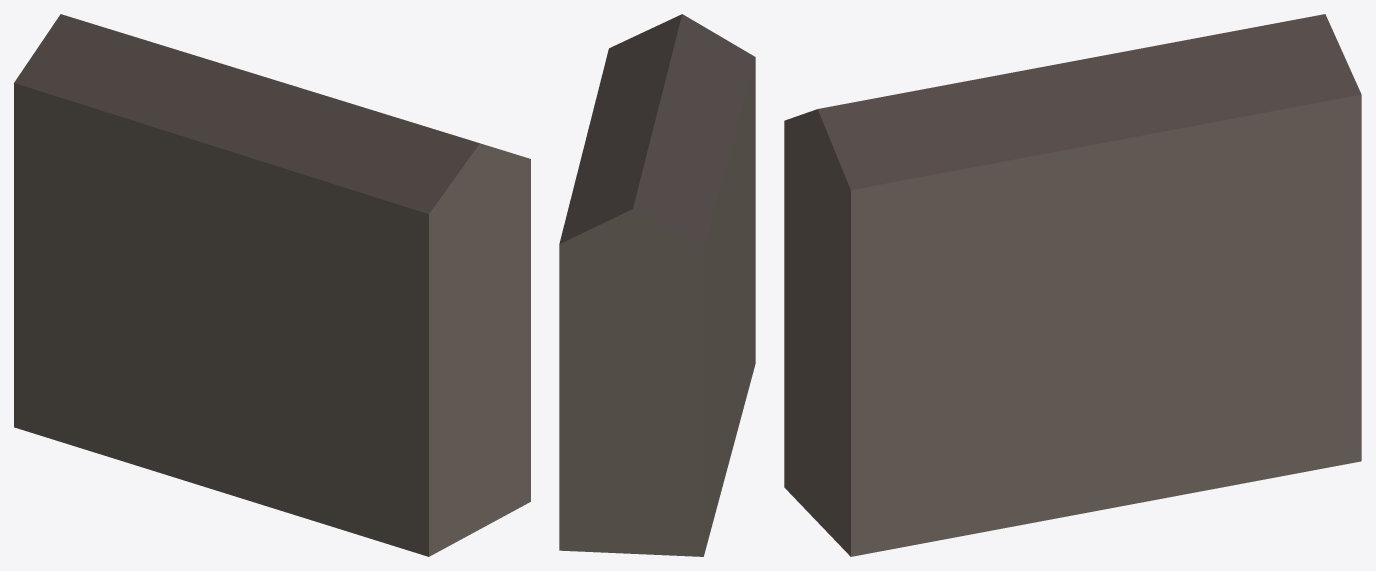
3 renders of one model, left to right at view 1: azimuth 30°, elevation 25°; view 2: azimuth 150°, elevation 25°; view 3: azimuth 270°, elevation 25°, orthographic. The views are drawn at different scales.
Visible parts, largest first — view 1: HP-w783664820; view 2: HP-w783664820; view 3: HP-w783664820.
Part boxes in pixels (box(x1,y1,x2,y2)): HP-w783664820: box(14, 14, 530, 556); HP-w783664820: box(559, 14, 755, 556); HP-w783664820: box(784, 14, 1361, 556).
Bounding box in the file's own units: 5.71 × 6.76 × 8.56.
